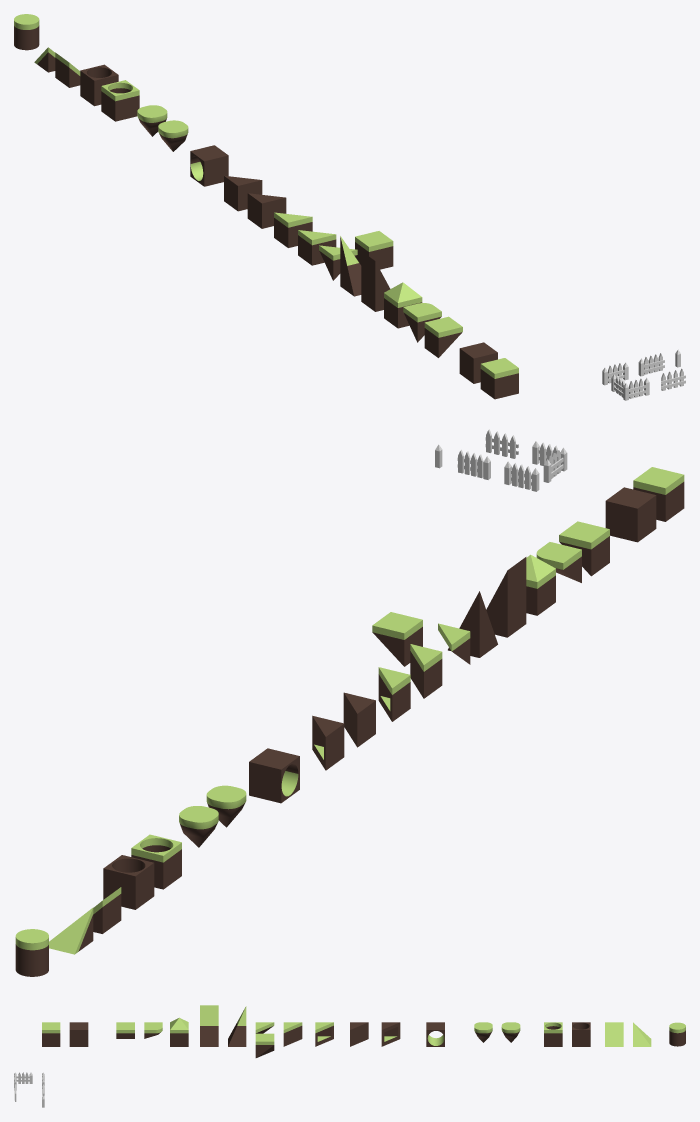
Rendered from Tiles 05.dae.
The picture shows the model from 3 angles, top to bottom: view 1: azimuth 30°, elevation 25°; view 2: azimuth 150°, elevation 25°; view 3: azimuth 270°, elevation 25°; orthographic projection. The views are drawn at different scales.
Parts seen in each view (by area): view 1: 01 Ground Base -col, 13 Ground Hole -col, 10 Ground Block Hollow -col, 05 Wall Slanted -col, 15 Ground Trinagle Alternative -col, 02 Ground Edge -col, 04 Ground Spike -col, 09 Ground Triangle Block -col, 14 Ground Block Hole -col, 01b Ground Block -col, 09b Ground Triangle Block Hollow -col, 09b Ground Triangle Hollow -col.001 (+8 smaller); view 2: 01b Ground Block -col, 10 Ground Block Hollow -col, 05 Wall Slanted -col, 14 Ground Block Hole -col, 01 Ground Base -col, 13 Ground Hole -col, 15 Ground Trinagle Alternative -col, 02 Ground Edge -col, 13b Ground Cylinder -col, 04 Ground Spike -col, 09b Ground Triangle Block Hollow -col, 08 Ground Trinagle 2 -col (+10 smaller); view 3: 05 Wall Slanted -col, 04 Ground Spike -col, 01b Ground Block -col, 06 Wall Slanted Corner -col, 01 Ground Base -col, 13 Ground Hole -col, 14 Ground Block Hole -col, 16 Ground Slope -col, 15 Ground Trinagle Alternative -col, 09b Ground Triangle Block Hollow -col, 08 Ground Trinagle 2 -col, 10 Ground Block Hollow -col (+10 smaller).
Part boxes in pixels (left/top/right/bottom): 01 Ground Base -col: left=480, top=358, right=518, bottom=399; 13 Ground Hole -col: left=101, top=80, right=139, bottom=121; 10 Ground Block Hollow -col: left=190, top=145, right=228, bottom=186; 05 Wall Slanted -col: left=361, top=251, right=390, bottom=311; 15 Ground Trinagle Alternative -col: left=355, top=231, right=393, bottom=269; 02 Ground Edge -col: left=424, top=316, right=462, bottom=357; 04 Ground Spike -col: left=384, top=282, right=422, bottom=328; 09 Ground Triangle Block -col: left=247, top=193, right=286, bottom=228; 14 Ground Block Hole -col: left=80, top=64, right=118, bottom=106; 01b Ground Block -col: left=459, top=342, right=497, bottom=383; 09b Ground Triangle Block Hollow -col: left=224, top=175, right=262, bottom=211; 09b Ground Triangle Hollow -col.001: left=274, top=212, right=312, bottom=247; 01b Ground Block -col: left=605, top=487, right=656, bottom=542; 10 Ground Block Hollow -col: left=249, top=748, right=299, bottom=803; 05 Wall Slanted -col: left=486, top=557, right=526, bottom=637; 14 Ground Block Hole -col: left=103, top=855, right=154, bottom=909; 01 Ground Base -col: left=633, top=467, right=684, bottom=521; 13 Ground Hole -col: left=131, top=834, right=181, bottom=889; 15 Ground Trinagle Alternative -col: left=372, top=612, right=422, bottom=666; 02 Ground Edge -col: left=559, top=521, right=609, bottom=576; 13b Ground Cylinder -col: left=15, top=929, right=48, bottom=976; 04 Ground Spike -col: left=526, top=554, right=555, bottom=615; 09b Ground Triangle Block Hollow -col: left=312, top=715, right=344, bottom=770; 08 Ground Trinagle 2 -col: left=410, top=644, right=442, bottom=698; 05 Wall Slanted -col: left=200, top=1005, right=218, bottom=1046; 04 Ground Spike -col: left=170, top=1017, right=188, bottom=1046; 01b Ground Block -col: left=69, top=1022, right=88, bottom=1046; 06 Wall Slanted Corner -col: left=228, top=1006, right=246, bottom=1046; 01 Ground Base -col: left=42, top=1022, right=60, bottom=1046; 13 Ground Hole -col: left=544, top=1022, right=562, bottom=1046; 14 Ground Block Hole -col: left=572, top=1022, right=590, bottom=1046; 16 Ground Slope -col: left=605, top=1022, right=623, bottom=1046; 15 Ground Trinagle Alternative -col: left=255, top=1033, right=274, bottom=1057; 09b Ground Triangle Block Hollow -col: left=381, top=1022, right=400, bottom=1046; 08 Ground Trinagle 2 -col: left=283, top=1022, right=302, bottom=1046; 10 Ground Block Hollow -col: left=426, top=1022, right=444, bottom=1046.
Size of the model in its own units: 15.31 by 72.26 by 5.
